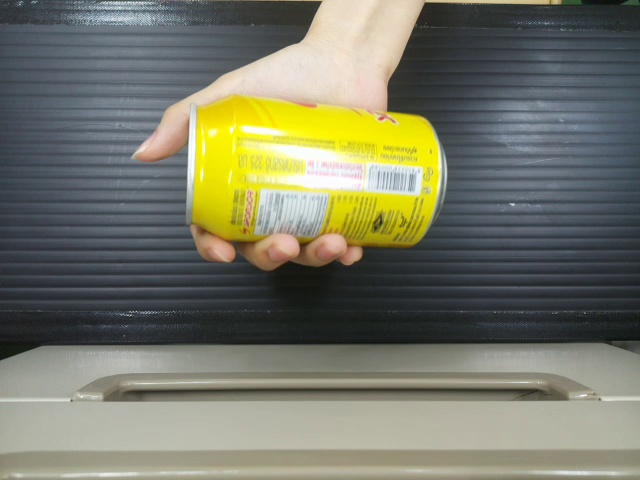can: (182, 96, 446, 241)
